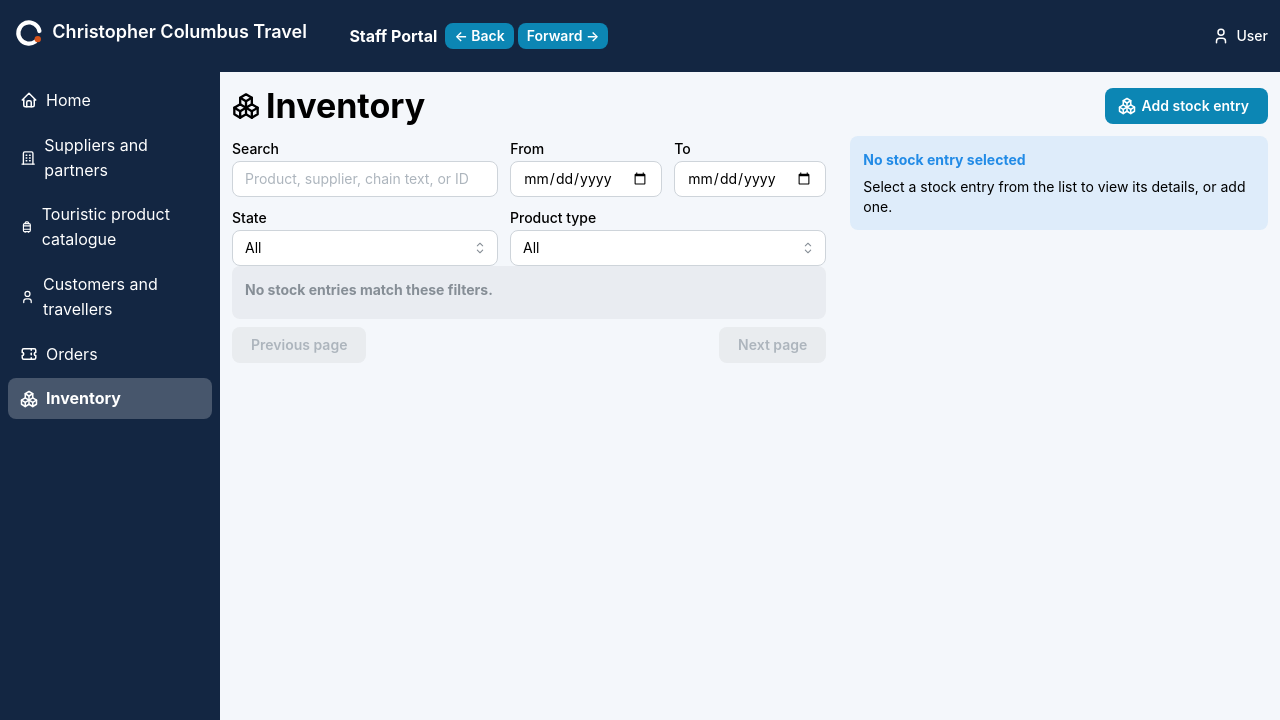
Test: StockItemsRoute › opens create functionality in the right pane
The width and height of the screenshot is (1280, 720).
Click the button "Add stock entry": [1186, 106] box [1104,88,1268,124]
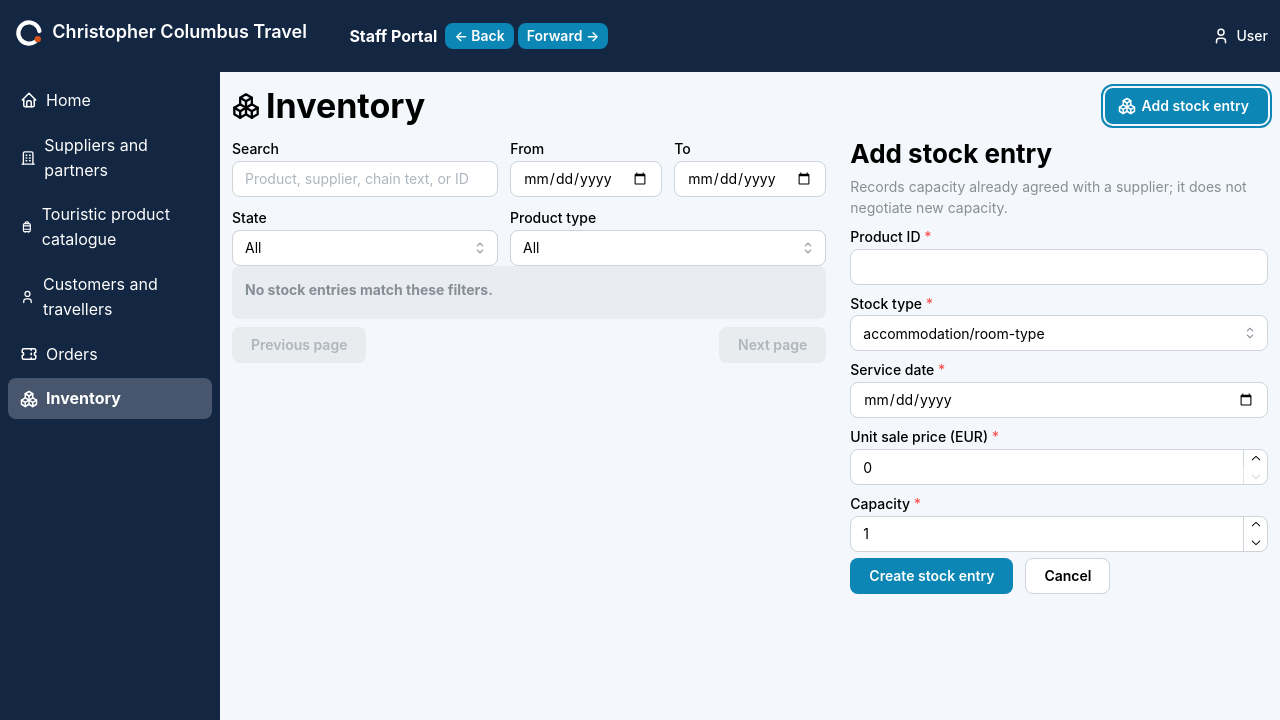
Expected: the heading "Inventory" is shown, [266,84,425,128]
Now the form "Add stock entry" is shown, box [850,136,1268,594]
